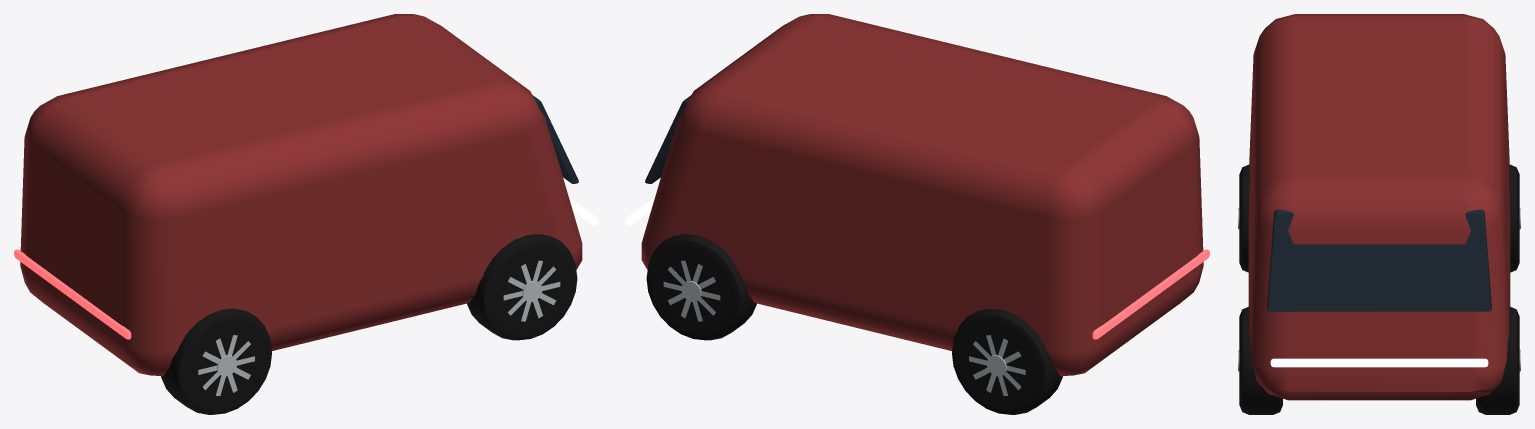
File: ev-van.glb
3 renders of one model, left to right at view 1: azimuth 30°, elevation 25°; view 2: azimuth 150°, elevation 25°; view 3: azimuth 270°, elevation 25°, orthographic. The views are drawn at different scales.
Parts seen in each view (by area): view 1: part-paint, wheel--11--1-tyre, wheel-+11--1-tyre, wheel-+11--1-hub, wheel--11--1-hub, part-taillight, part-glass; view 2: part-paint, wheel--11-1-tyre, wheel-+11-1-tyre, wheel-+11-1-hub, wheel--11-1-hub, part-taillight, part-glass; view 3: part-paint, part-glass, lightbar-front, wheel-+11-1-tyre, wheel-+11--1-tyre, wheel--11-1-tyre, wheel--11--1-tyre.
Boxes of the visible parts, x1=… form: part-paint: x1=20, y1=14, x2=582, y2=376; wheel--11--1-tyre: x1=161, y1=308, x2=271, y2=414; wheel-+11--1-tyre: x1=467, y1=234, x2=577, y2=340; wheel-+11--1-hub: x1=503, y1=260, x2=560, y2=321; wheel--11--1-hub: x1=198, y1=335, x2=254, y2=395; part-taillight: x1=14, y1=249, x2=131, y2=339; part-glass: x1=532, y1=95, x2=578, y2=183; part-paint: x1=641, y1=14, x2=1203, y2=376; wheel--11-1-tyre: x1=952, y1=308, x2=1062, y2=414; wheel-+11-1-tyre: x1=646, y1=234, x2=756, y2=340; wheel-+11-1-hub: x1=663, y1=260, x2=720, y2=321; wheel--11-1-hub: x1=969, y1=335, x2=1025, y2=395; part-taillight: x1=1092, y1=249, x2=1209, y2=339; part-glass: x1=645, y1=95, x2=691, y2=183; part-paint: x1=1248, y1=14, x2=1510, y2=400; part-glass: x1=1267, y1=209, x2=1491, y2=311; lightbar-front: x1=1270, y1=358, x2=1488, y2=367; wheel-+11-1-tyre: x1=1476, y1=306, x2=1519, y2=414; wheel-+11--1-tyre: x1=1239, y1=306, x2=1282, y2=414; wheel--11-1-tyre: x1=1509, y1=164, x2=1519, y2=272; wheel--11--1-tyre: x1=1239, y1=164, x2=1249, y2=272.
Bounding box in the file's own units: 33.4 × 16.4 × 18.17.
